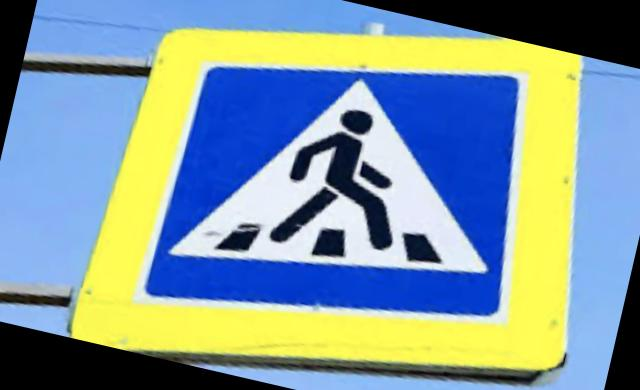crosswalk-sign: (62, 1, 634, 390)
